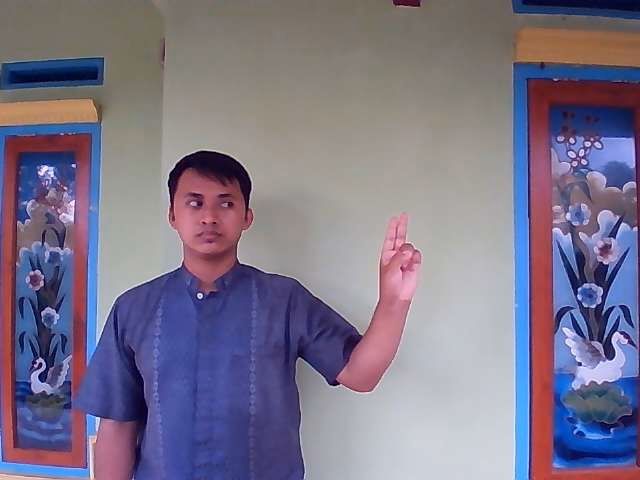U: (376, 209, 424, 308)
